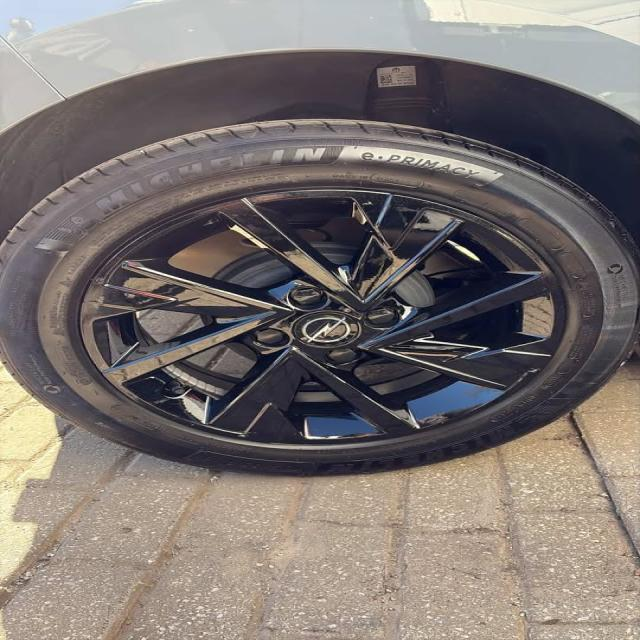jante: (76, 186, 571, 450)
parafuso: (284, 286, 328, 312), (255, 328, 288, 350), (363, 308, 397, 328), (326, 346, 358, 367)
roda: (0, 118, 640, 474)
